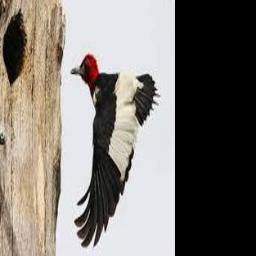Woodpecker: (71, 54, 161, 248)
